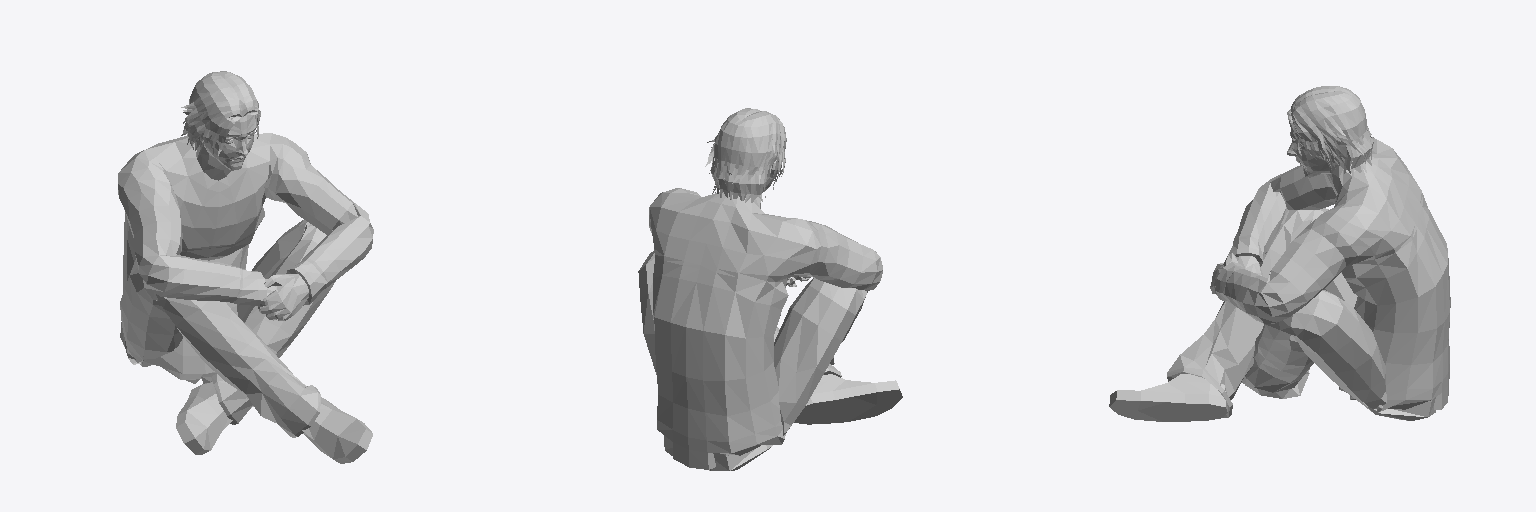
Rendered from sitMaleOnLand.obj.
3 renders of one model, left to right at view 1: azimuth 30°, elevation 25°; view 2: azimuth 150°, elevation 25°; view 3: azimuth 270°, elevation 25°, orthographic.
Parts seen in each view (by area): view 1: Object01.001; view 2: Object01.001; view 3: Object01.001.
Part boxes in pixels (left/top/right/bottom): Object01.001: left=118, top=71, right=373, bottom=463; Object01.001: left=638, top=108, right=902, bottom=470; Object01.001: left=1109, top=86, right=1450, bottom=421.
Bounding box in the file's own units: 67.57 × 92.73 × 88.37.